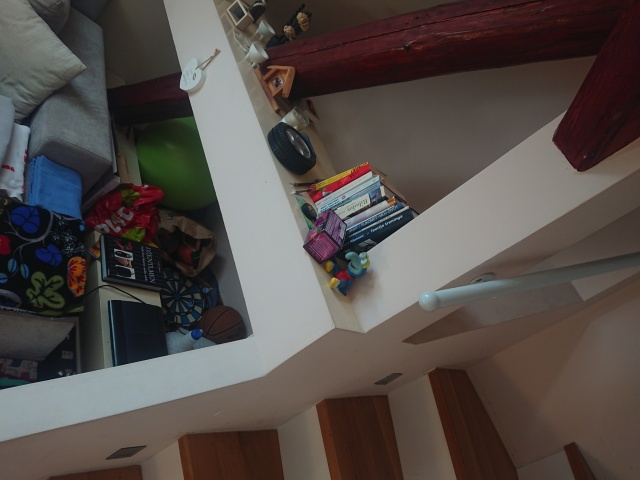Franck Black Currant Tea 60g: (301, 207, 349, 265)
